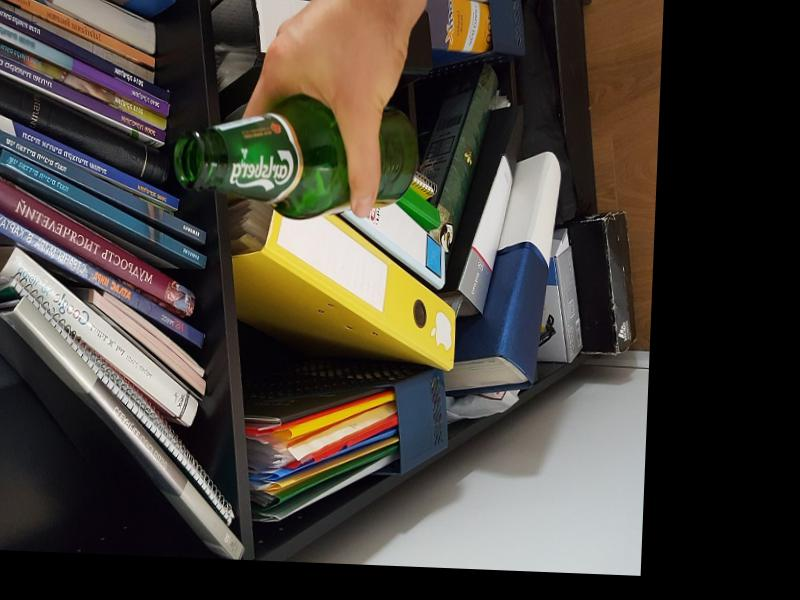Beer: (172, 93, 422, 222)
